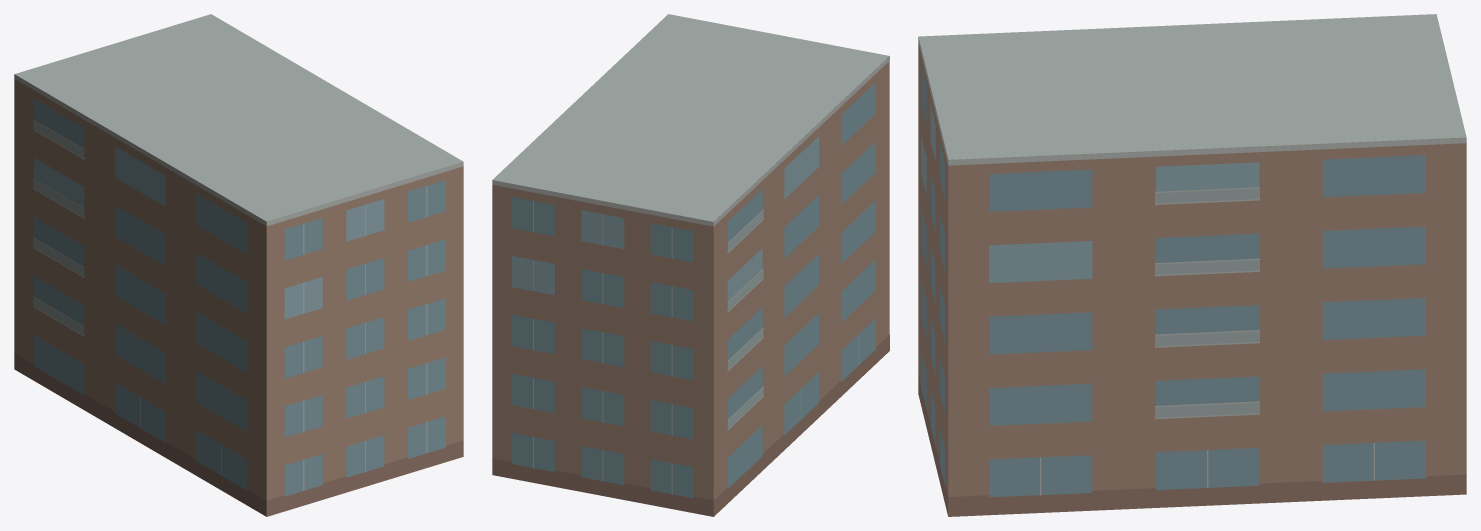
The model's file is survey-upis-33022244.glb.
3 renders of one model, left to right at view 1: azimuth 30°, elevation 25°; view 2: azimuth 150°, elevation 25°; view 3: azimuth 270°, elevation 25°, orthographic. The views are drawn at different scales.
Parts seen in each view (by area): view 1: survey-upis-33022244.tmp; view 2: survey-upis-33022244.tmp; view 3: survey-upis-33022244.tmp.
Boxes of the visible parts, x1=… form: survey-upis-33022244.tmp: x1=14, y1=14, x2=463, y2=516; survey-upis-33022244.tmp: x1=492, y1=14, x2=889, y2=516; survey-upis-33022244.tmp: x1=918, y1=14, x2=1466, y2=516.
Size of the model in its own units: 13.38 by 15.25 by 21.24.
